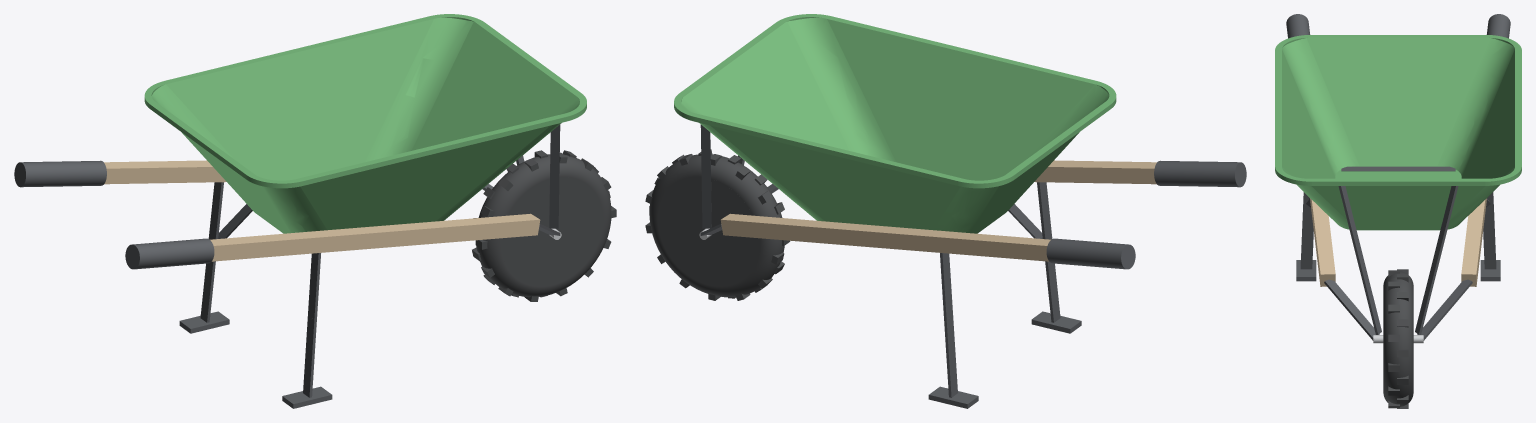
Rendered from wheelbarrow.glb.
The picture shows the model from 3 angles, left to right: view 1: azimuth 30°, elevation 25°; view 2: azimuth 150°, elevation 25°; view 3: azimuth 270°, elevation 25°; orthographic projection. The views are drawn at different scales.
Visible parts, largest first — view 1: tray, tyre, grips, handles; view 2: tray, tyre, grips, handles; view 3: tray, grips, tyre, handles.
Boxes of the visible parts, bbox=[...] form: tray: bbox=[144, 14, 586, 233]; tyre: bbox=[472, 150, 616, 301]; grips: bbox=[14, 124, 560, 408]; handles: bbox=[104, 160, 540, 261]; tray: bbox=[674, 14, 1116, 233]; tyre: bbox=[645, 149, 790, 300]; grips: bbox=[700, 124, 1246, 408]; handles: bbox=[720, 160, 1156, 261]; tray: bbox=[1275, 35, 1521, 230]; grips: bbox=[1286, 14, 1510, 340]; tyre: bbox=[1383, 269, 1413, 408]; handles: bbox=[1310, 198, 1486, 286].
Size of the model in its own units: 1.66 by 0.711 by 0.736.
